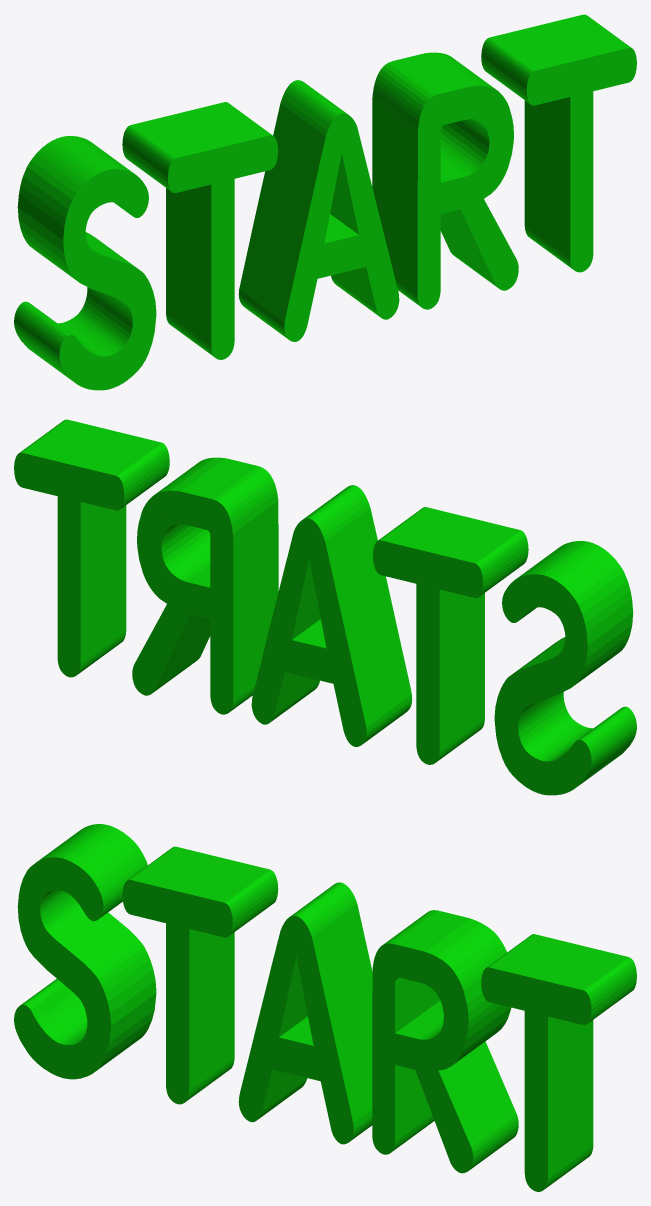
The model's file is start.gltf.
3 renders of one model, top to bottom at view 1: azimuth 30°, elevation 25°; view 2: azimuth 150°, elevation 25°; view 3: azimuth 330°, elevation 25°, orthographic.
Parts seen in each view (by area): view 1: path905; view 2: path905; view 3: path905.
Part boxes in pixels (<box>): path905: <box>14,14,636,390</box>; path905: <box>14,419,636,795</box>; path905: <box>14,824,636,1191</box>.
Size of the model in its own units: 0.11 by 0.04 by 0.015.
